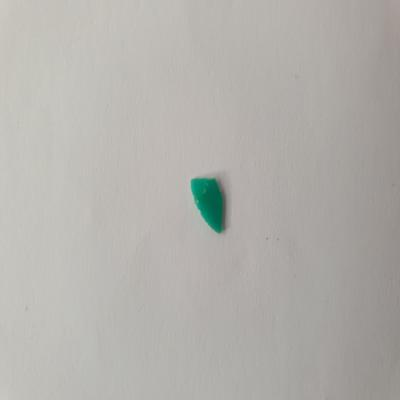plastic: (188, 175, 235, 238)
